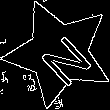N_NW: (27, 21, 91, 85)
